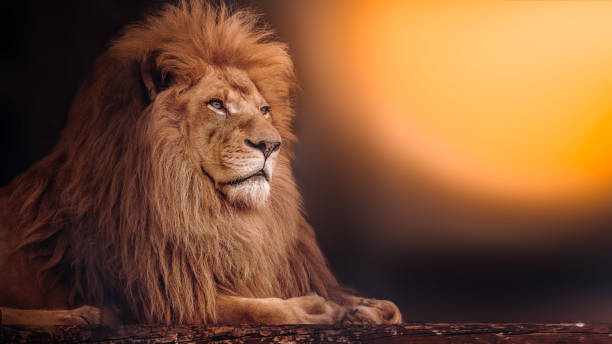lion: (25, 2, 417, 327)
